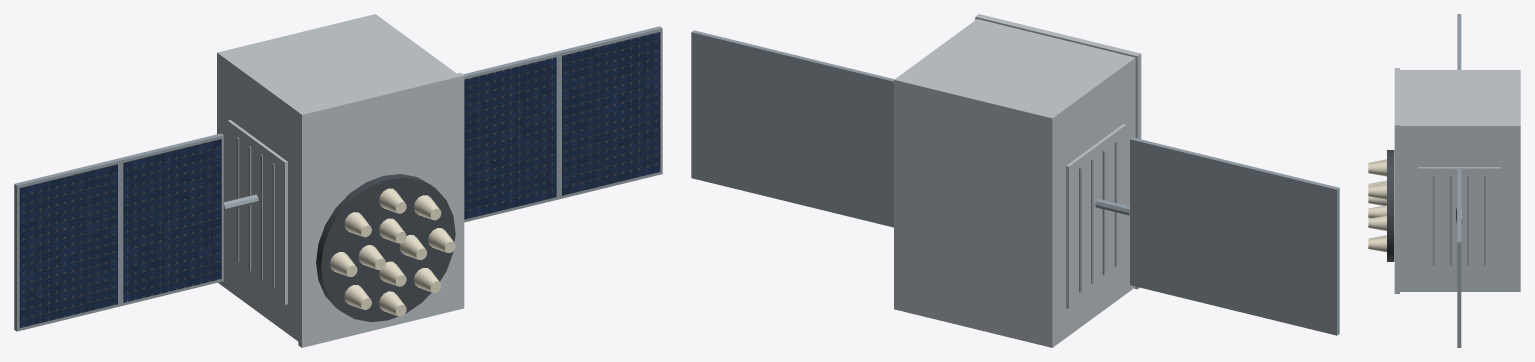
The model's file is gps-i.glb.
3 renders of one model, left to right at view 1: azimuth 30°, elevation 25°; view 2: azimuth 150°, elevation 25°; view 3: azimuth 270°, elevation 25°, orthographic. The views are drawn at different scales.
Parts seen in each view (by area): view 1: Photovoltaic laminates (×4), Payload deck, Equipment bus, Navigation antenna base, Array frame (×4), Radiator, Navigation antenna element (×10); view 2: Array frame (×4), Equipment bus, Radiator, Payload deck; view 3: Equipment bus, Radiator, Payload deck, Navigation antenna element (×6), Array frame (×3), Radiator channel (×4), Navigation antenna base.
Boxes of the visible parts, x1,y1,x2,y2 form: Photovoltaic laminates (×4): (19, 32, 660, 327); Payload deck: (298, 72, 464, 347); Equipment bus: (217, 14, 456, 341); Navigation antenna base: (316, 174, 455, 322); Array frame (×4): (14, 26, 662, 331); Radiator: (227, 120, 287, 304); Navigation antenna element (×10): (330, 188, 455, 316); Array frame (×4): (691, 30, 1339, 335); Equipment bus: (894, 19, 1135, 347); Radiator: (1066, 124, 1126, 308); Payload deck: (975, 14, 1141, 289); Equipment bus: (1400, 70, 1520, 291); Radiator: (1417, 167, 1500, 271); Payload deck: (1394, 68, 1399, 293); Navigation antenna element (×6): (1368, 161, 1386, 252); Array frame (×3): (1457, 14, 1461, 347); Radiator channel (×4): (1432, 175, 1485, 265); Navigation antenna base: (1387, 150, 1394, 261).
Bounding box in the file's own units: 5.3 × 1.83 × 1.49.
Materials: 5 (1 with a texture image).
